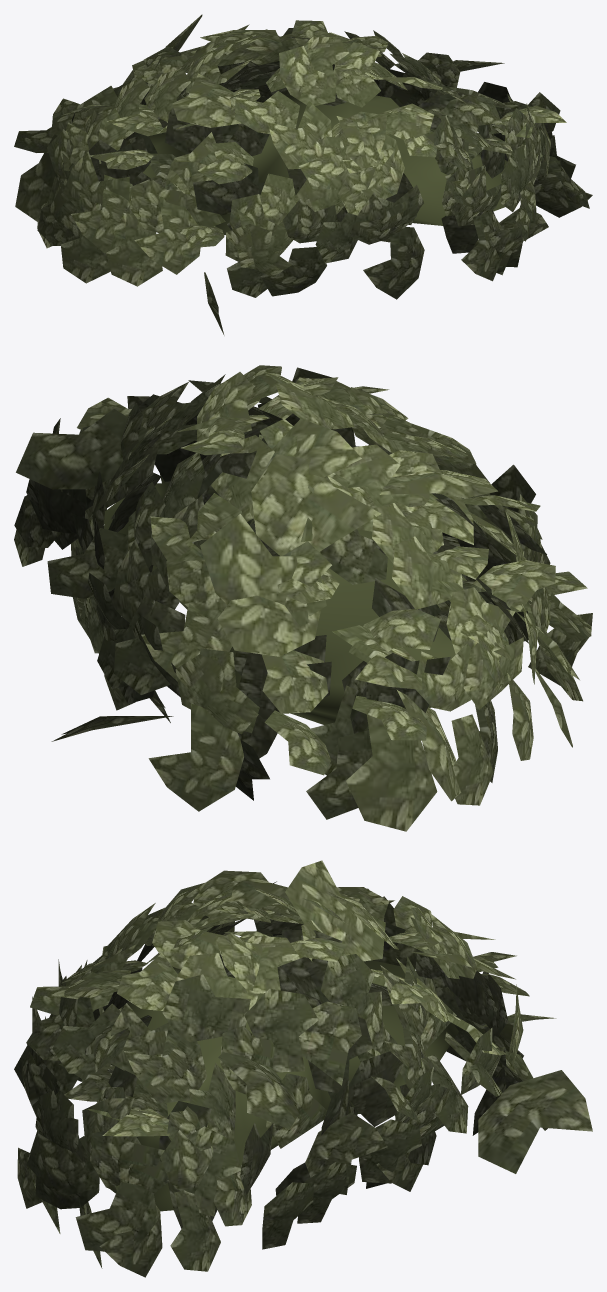
Rendered from bush_mound_far.glb.
The picture shows the model from 3 angles, top to bottom: view 1: azimuth 30°, elevation 25°; view 2: azimuth 150°, elevation 25°; view 3: azimuth 270°, elevation 25°; orthographic projection. The views are drawn at different scales.
Parts seen in each view (by area): view 1: bush_mound_lod1; view 2: bush_mound_lod1; view 3: bush_mound_lod1.
Part boxes in pixels (x1=…): bush_mound_lod1: x1=14, y1=14, x2=592, y2=335; bush_mound_lod1: x1=14, y1=365, x2=592, y2=831; bush_mound_lod1: x1=14, y1=860, x2=592, y2=1277.
Size of the model in its own units: 1.78 by 0.8379 by 1.57.
Materials: 1 (1 with a texture image).
